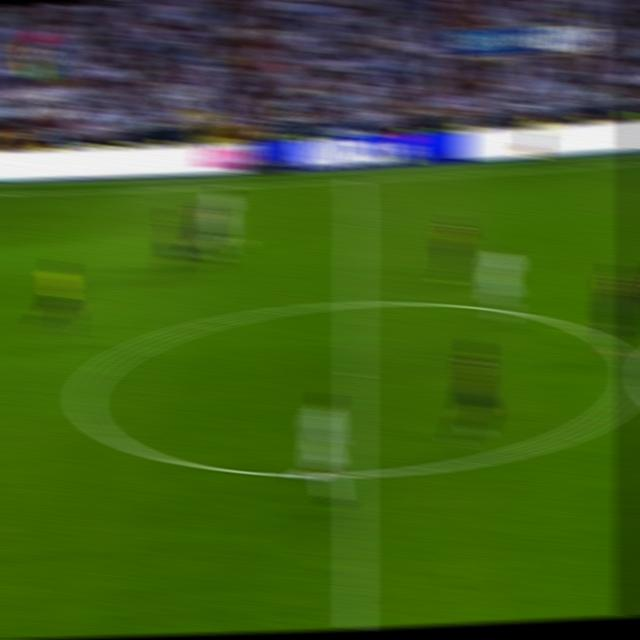halfcircle_bottom: (339, 452, 371, 496)
halfcircle_top: (341, 281, 370, 325)
midline_bottom_intersection: (340, 453, 371, 497)
midline_top_intersection: (341, 175, 370, 196)
